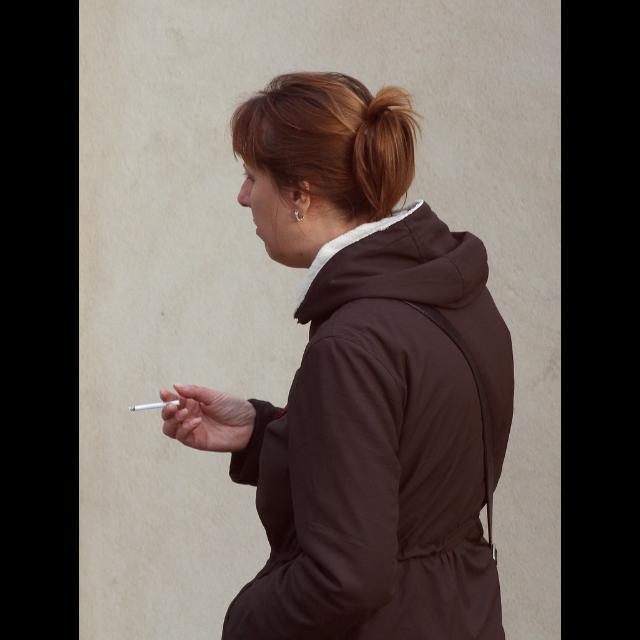rokok: (122, 396, 180, 416)
